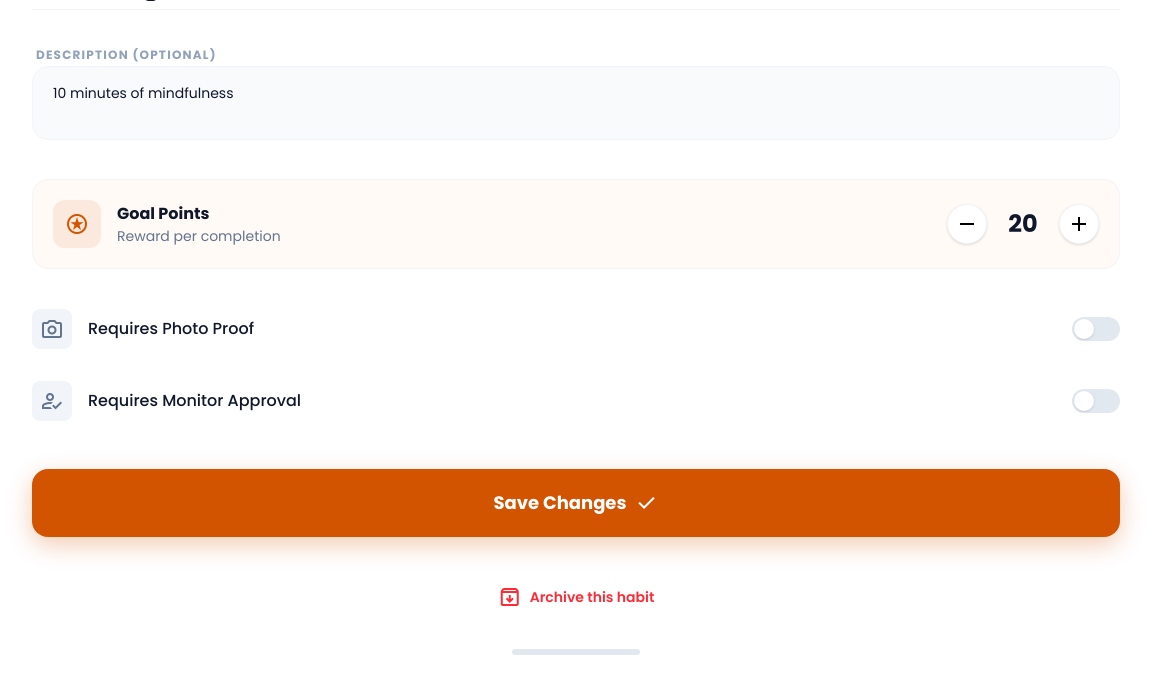
Scenario: EditHabit › can cancel archive
(page scrolled)
Click the button "Archive this habit": (576, 597) [32,569,1120,625]
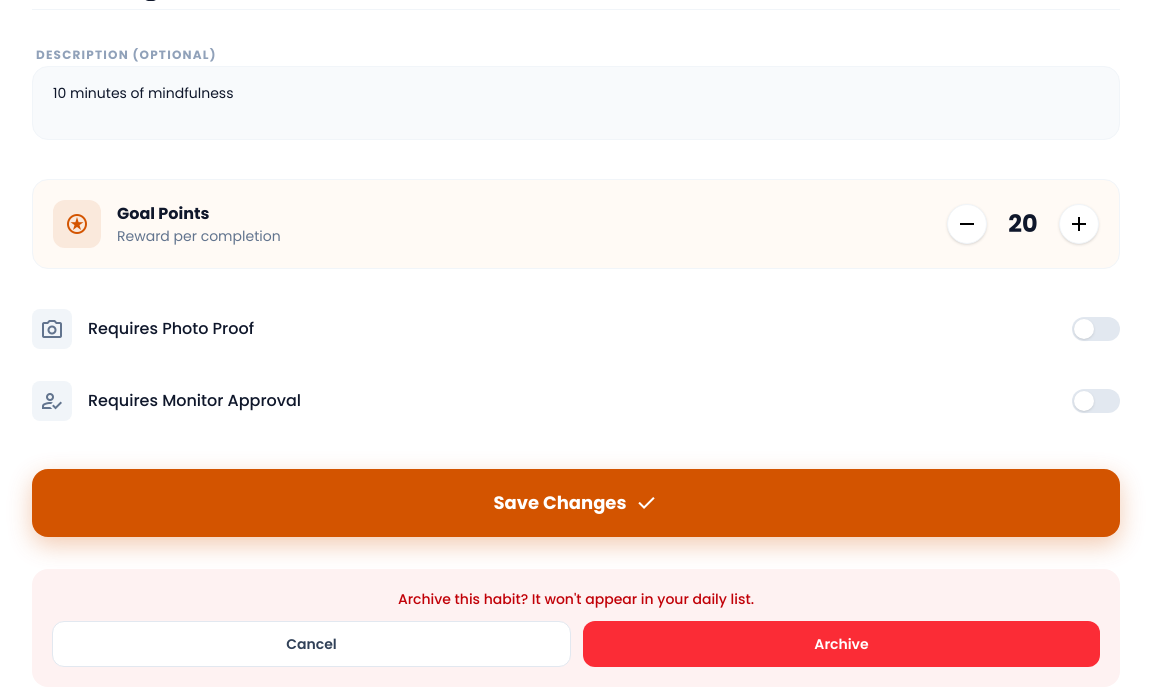
Click the button "Cancel": (312, 644) [52,621,571,667]
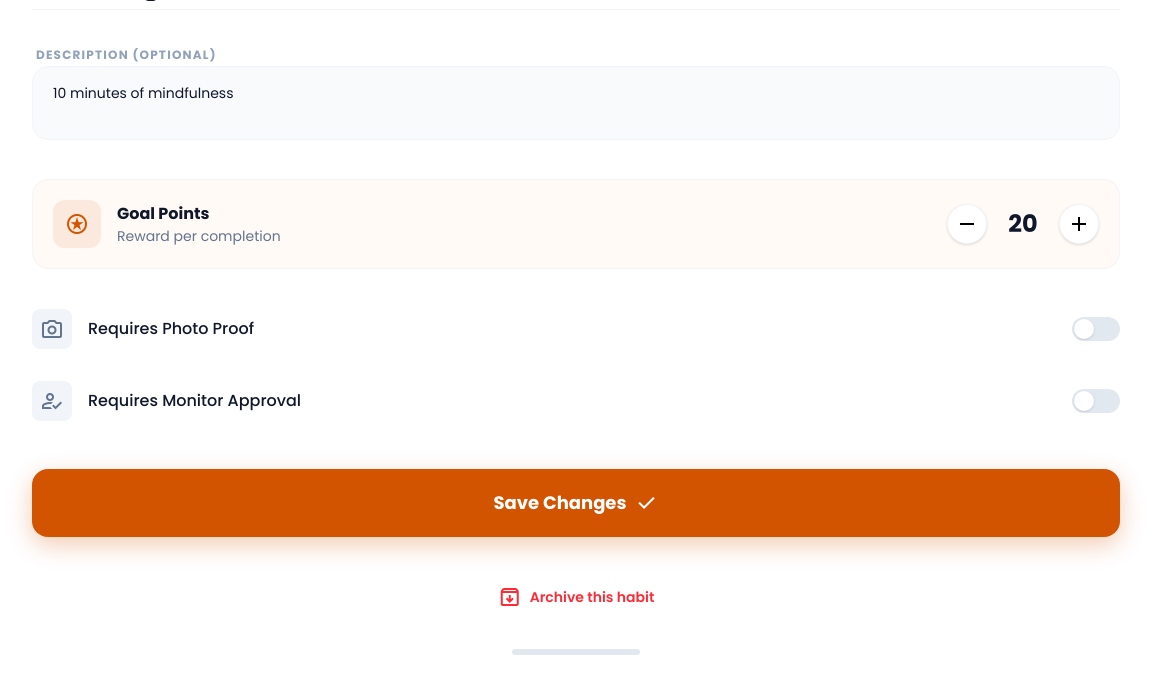
Expected: the text "Archive this habit? It won't appear" is gone
